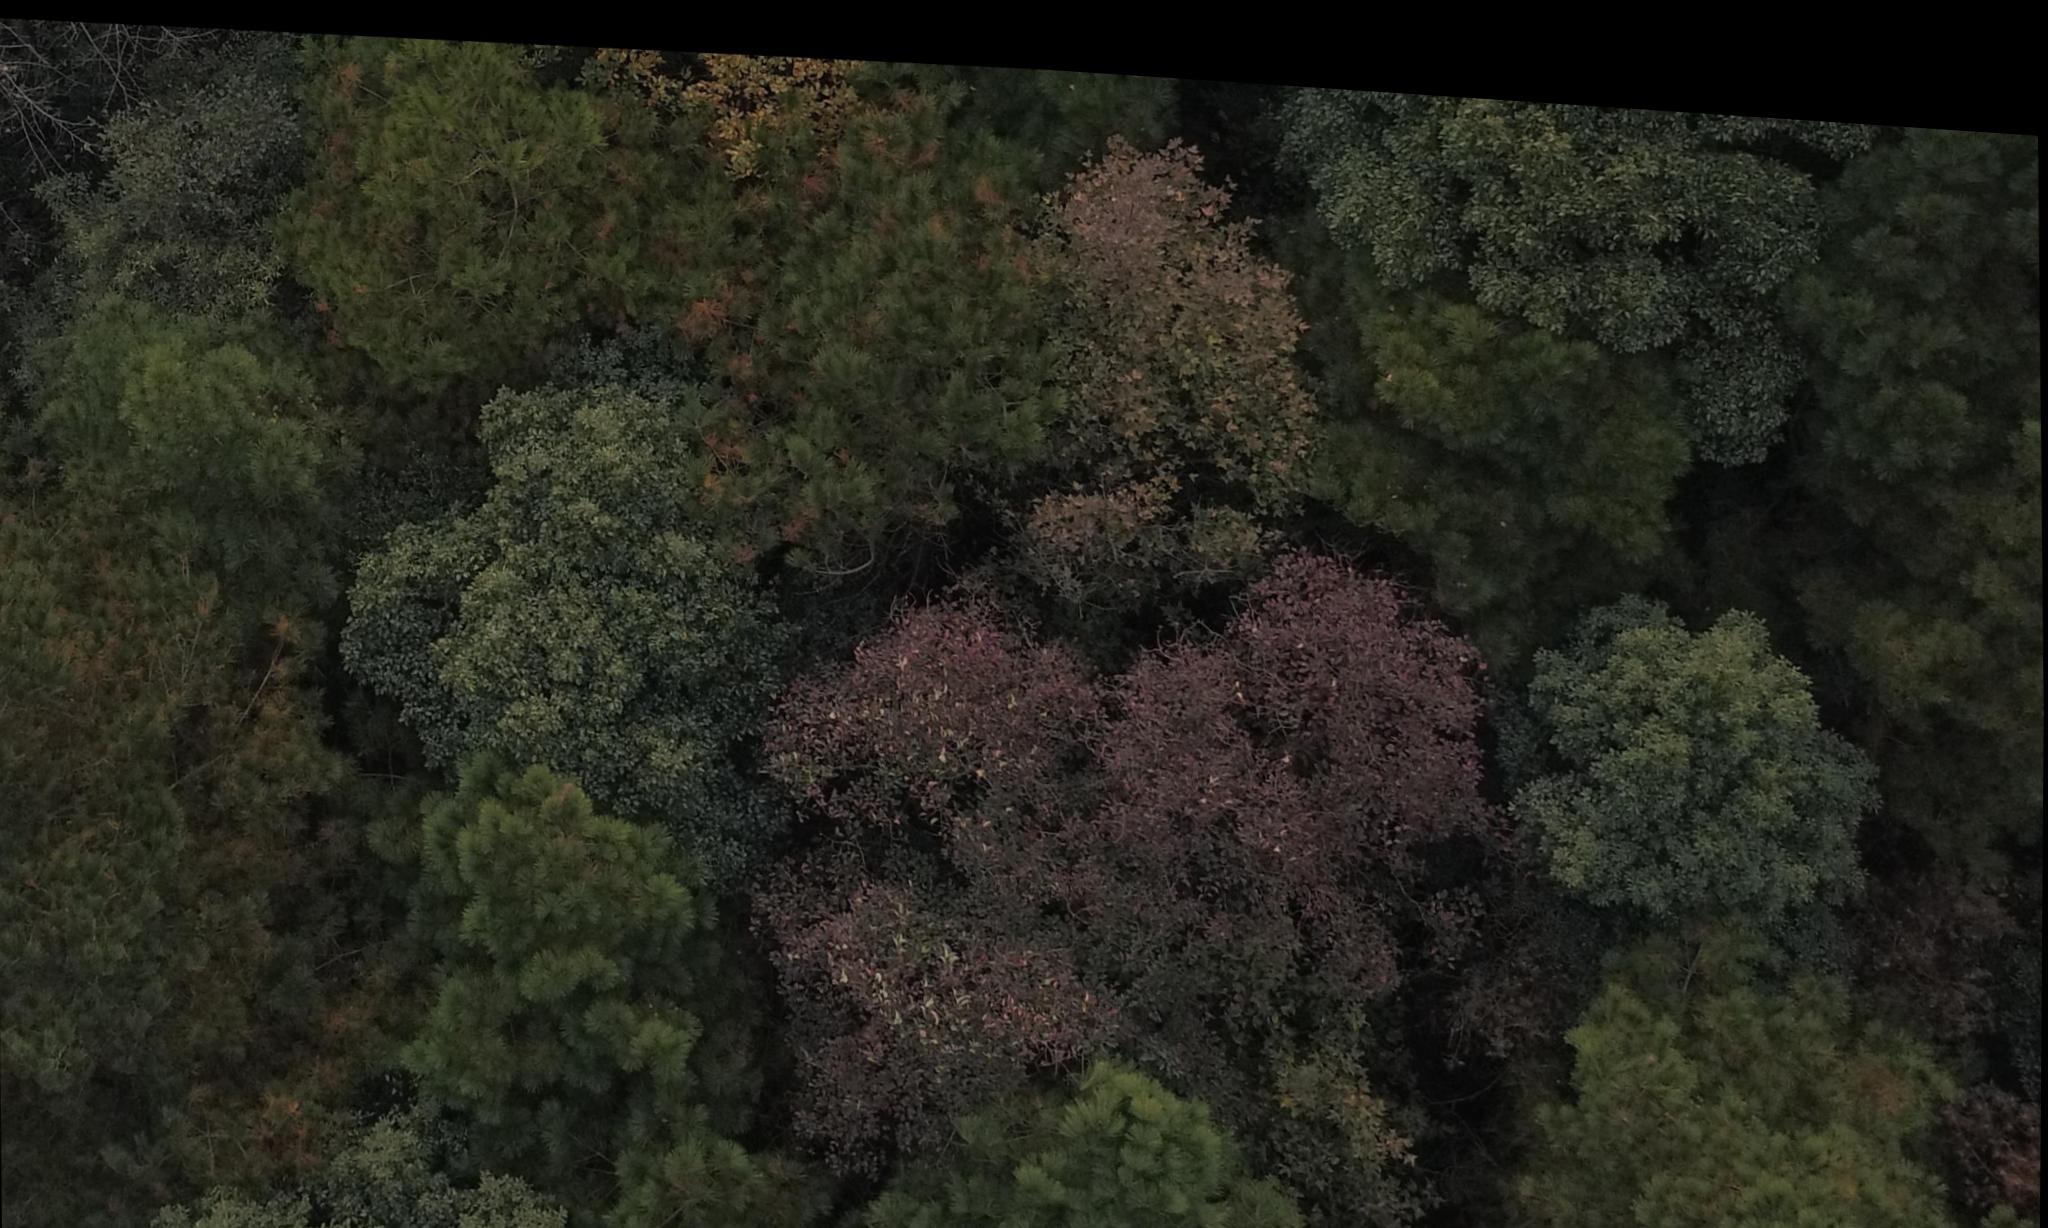heavy: (784, 522, 1485, 1162)
light: (994, 115, 1307, 561)
